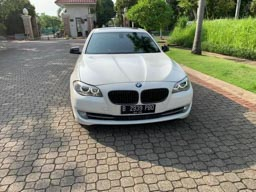plat: (119, 105, 156, 110)
